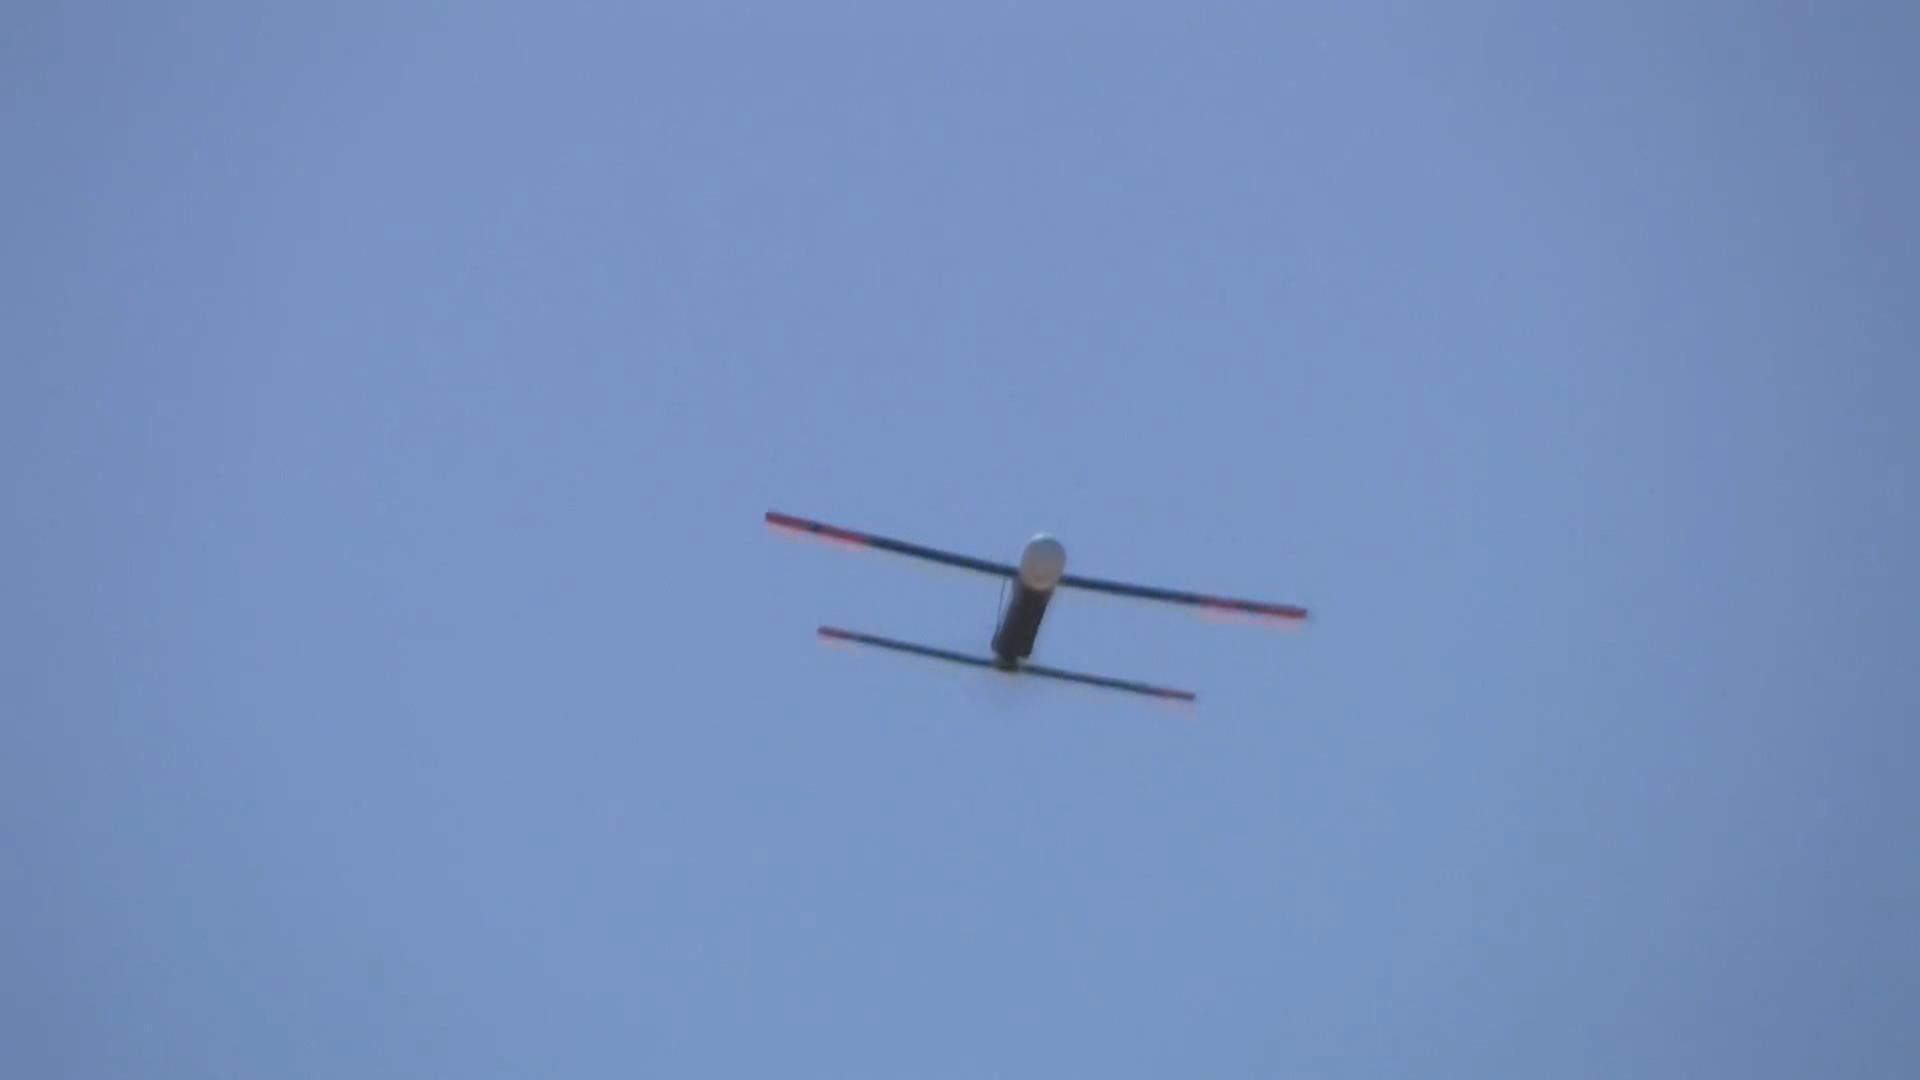Airplane: (744, 462, 1383, 753)
